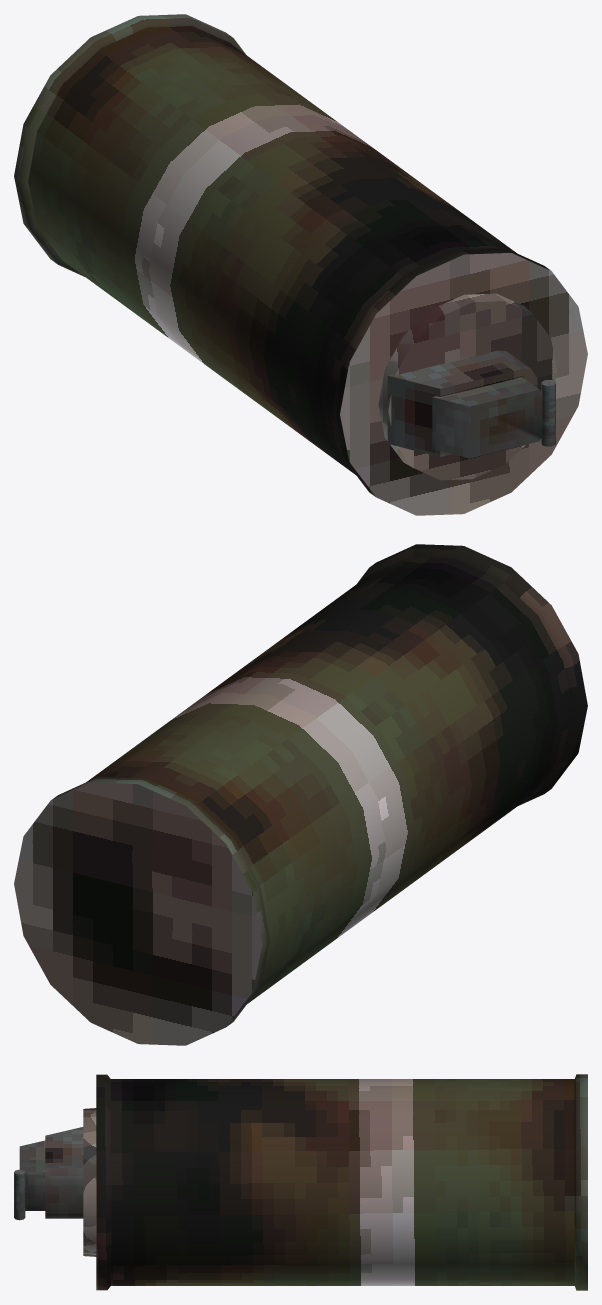
Rendered from weapon_us_smoke_grenade_burnt_LOD0.obj.
The picture shows the model from 3 angles, top to bottom: view 1: azimuth 30°, elevation 25°; view 2: azimuth 150°, elevation 25°; view 3: azimuth 270°, elevation 25°; orthographic projection. The views are drawn at different scales.
Parts seen in each view (by area): view 1: mtl_us_smoke_grenade_burnt; view 2: mtl_us_smoke_grenade_burnt; view 3: mtl_us_smoke_grenade_burnt.
Part boxes in pixels (x1,y1,x2,y2): mtl_us_smoke_grenade_burnt: [14, 14, 587, 515]; mtl_us_smoke_grenade_burnt: [14, 544, 587, 1045]; mtl_us_smoke_grenade_burnt: [14, 1074, 587, 1290].
Size of the model in its own units: 5.46 by 5.46 by 14.49.
Materials: 1 (1 with a texture image).
